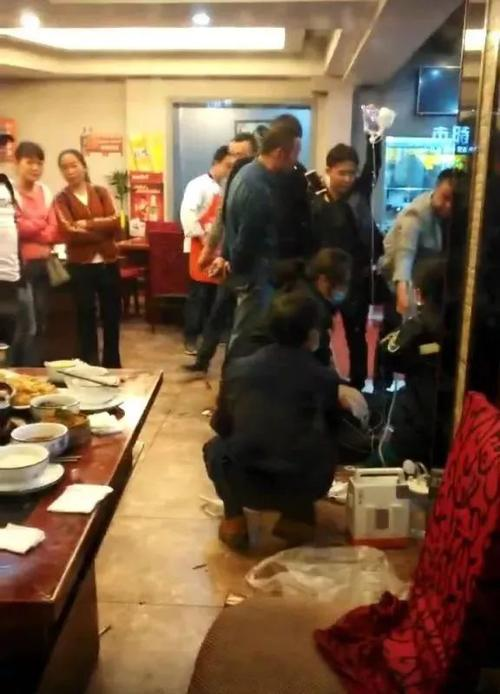10+: (1, 117, 500, 550)
down: (327, 374, 399, 460)
